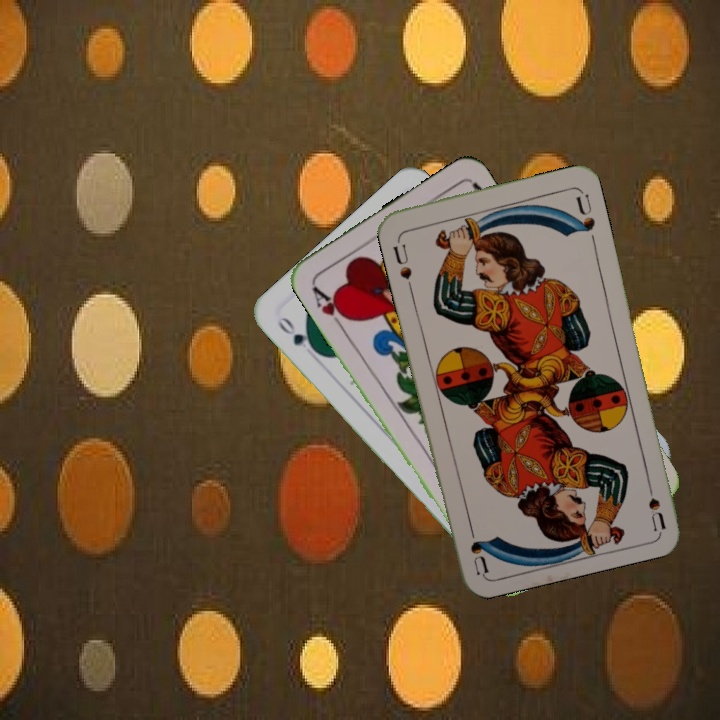GO: (273, 312, 321, 356)
HA: (308, 279, 353, 332)
SU: (641, 472, 668, 531), (389, 233, 415, 282)
